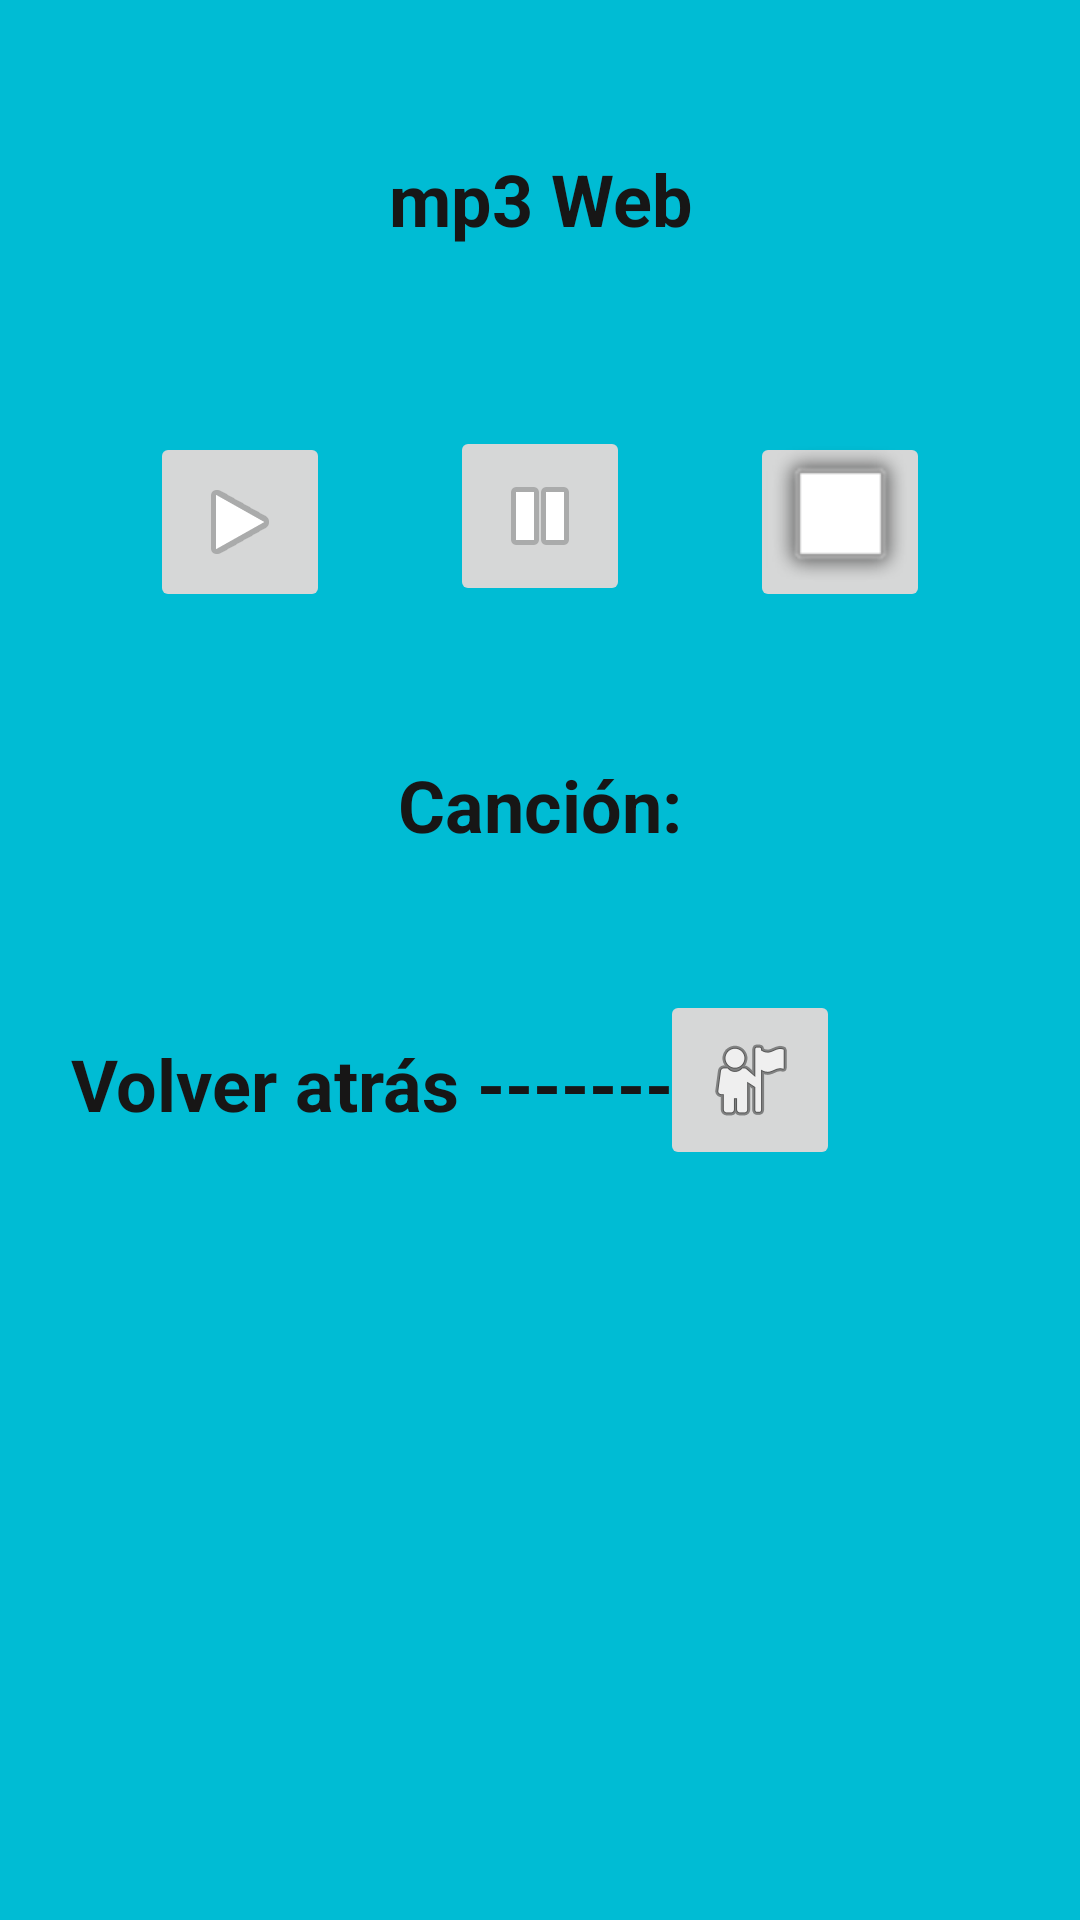

Locate icon controls on the screen. Image size 1080px×1920px, boxes as rect(x1, y1, x2, y2).
myplaces: rect(672, 1008, 828, 1152)
pause: rect(462, 444, 618, 588)
play: rect(162, 450, 318, 594)
